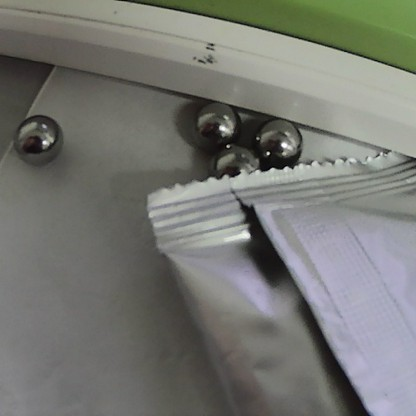ironball: (5, 104, 75, 165), (178, 100, 253, 156), (253, 105, 310, 168), (204, 142, 260, 196)
